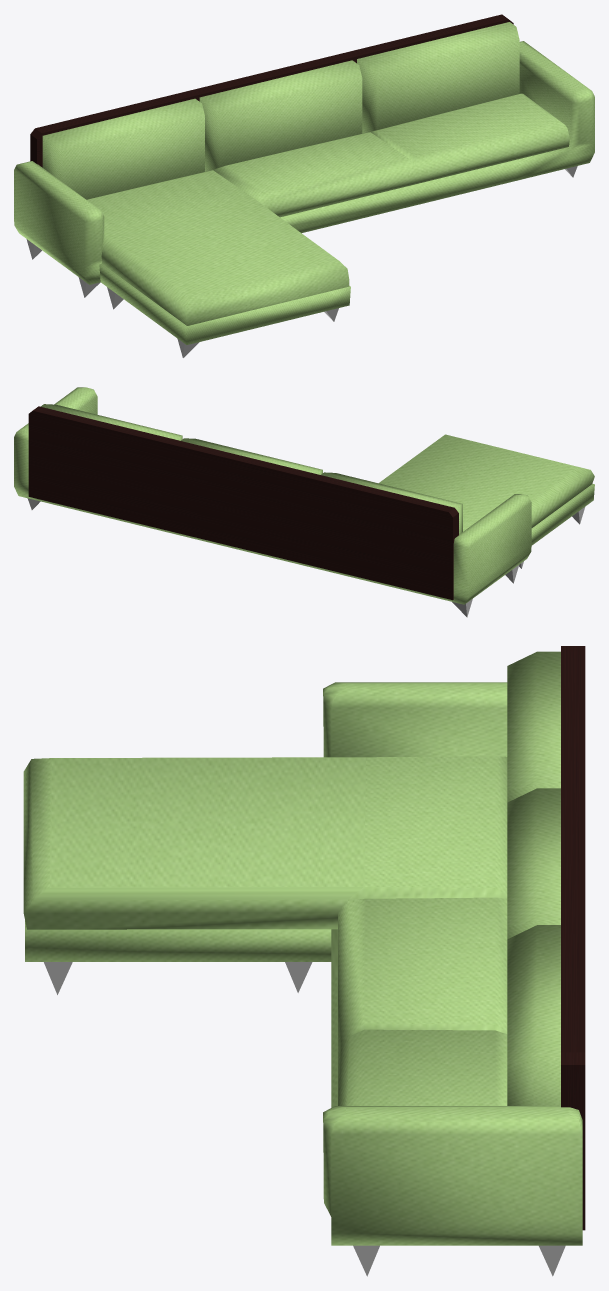
File: Chaise_Sofa_B_05.FBX
3 renders of one model, top to bottom at view 1: azimuth 30°, elevation 25°; view 2: azimuth 150°, elevation 25°; view 3: azimuth 270°, elevation 25°, orthographic. The views are drawn at different scales.
Parts seen in each view (by area): view 1: Chaise_Sofa_B; view 2: Chaise_Sofa_B; view 3: Chaise_Sofa_B.
Boxes of the visible parts, left/top/right/bottom form: Chaise_Sofa_B: left=14, top=14, right=594, bottom=357; Chaise_Sofa_B: left=14, top=387, right=594, bottom=617; Chaise_Sofa_B: left=23, top=646, right=585, bottom=1276.
Size of the model in its own units: 685 by 157 by 366.
